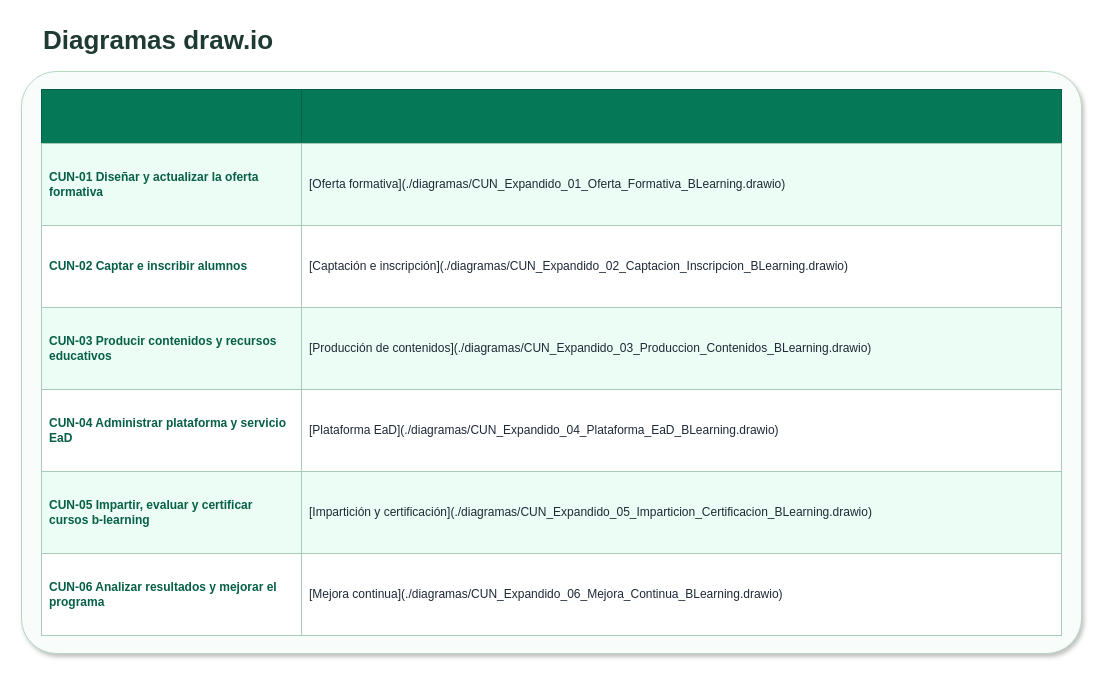
Some shapes in this 1105 by 678 pixel diagram are drawn without their labels. Each missing label, with the centre of its shape:
"Diagrama" goes at point (681, 116).
"Módulo" goes at point (171, 116).
